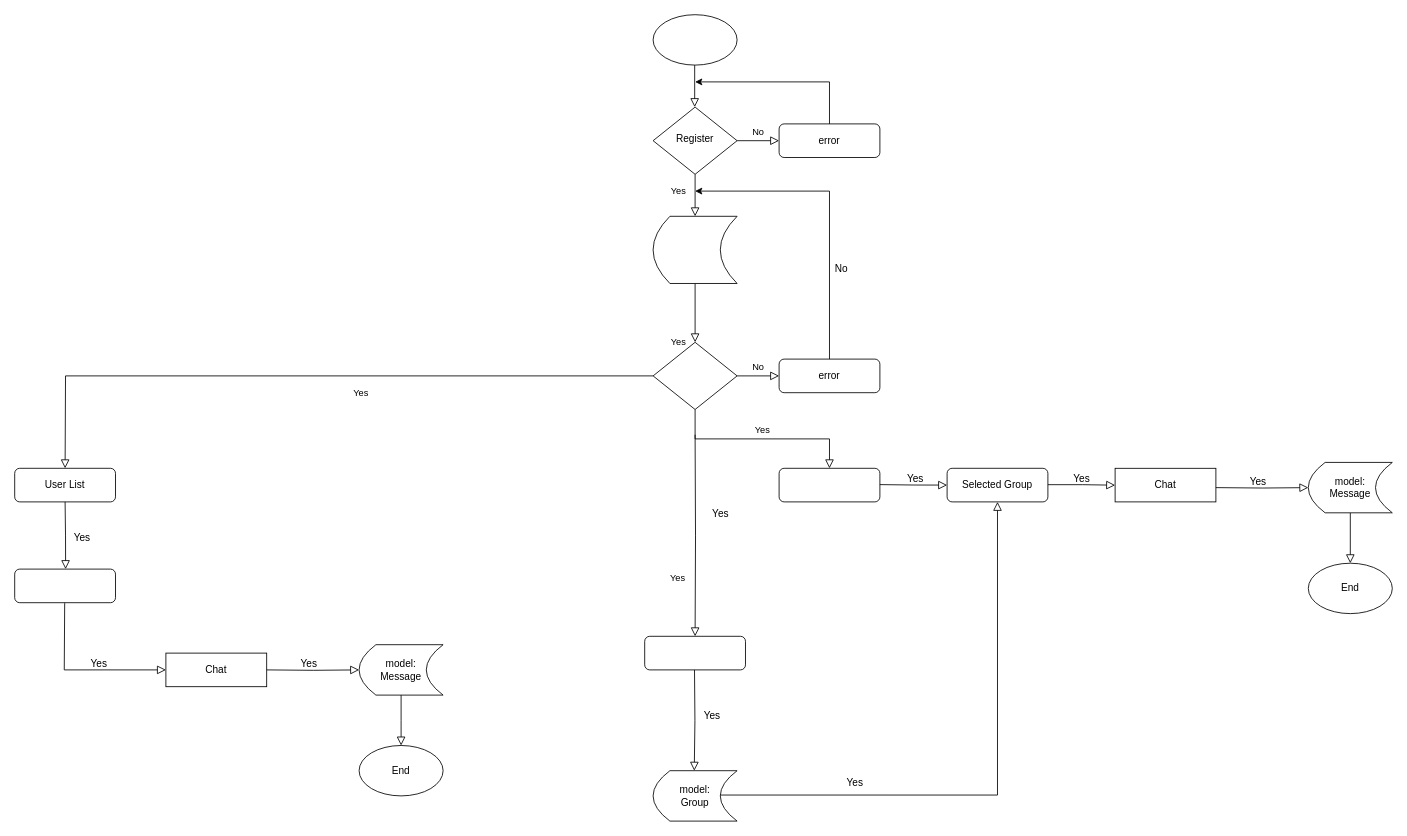
Some shapes in this 1407 by 836 pixel diagram are drawn without their labels. The shapes that lost their labels are listed below. From the top down, each one's centre as x and y in pixels, then its label:
At point (694, 39): "Start".
At point (694, 249): "model: User".
At point (694, 375): "Login".
At point (829, 484): "Group List".
At point (65, 585): "Selected User".
At point (695, 652): "Create Group".
